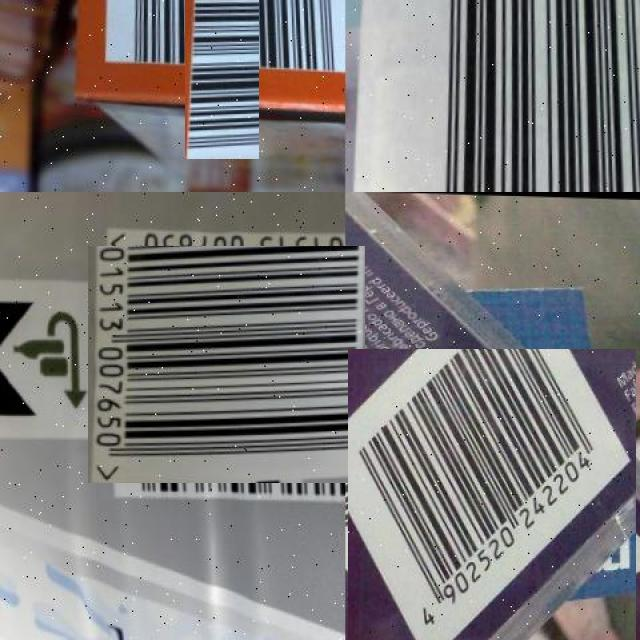Barcode: (346, 351, 638, 640), (98, 235, 355, 493), (425, 0, 640, 192), (142, 0, 302, 117)
